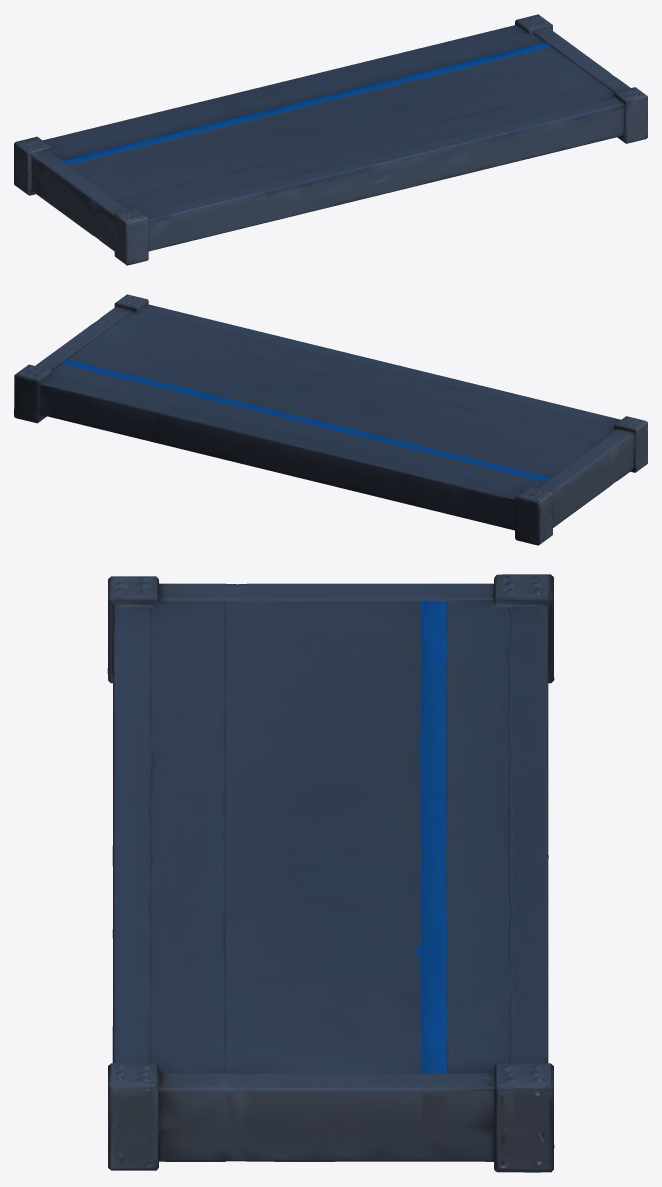
The model's file is stena_dver.glb.
3 renders of one model, top to bottom at view 1: azimuth 30°, elevation 25°; view 2: azimuth 150°, elevation 25°; view 3: azimuth 270°, elevation 25°, orthographic. The views are drawn at different scales.
Visible parts, largest first — view 1: stena_dver; view 2: stena_dver; view 3: stena_dver.
Boxes of the visible parts, bbox=[...] form: stena_dver: bbox=[14, 14, 647, 265]; stena_dver: bbox=[14, 294, 647, 545]; stena_dver: bbox=[107, 574, 554, 1172].
Size of the model in its own units: 10.88 by 0.8931 by 4.
Materials: 1 (1 with a texture image).
